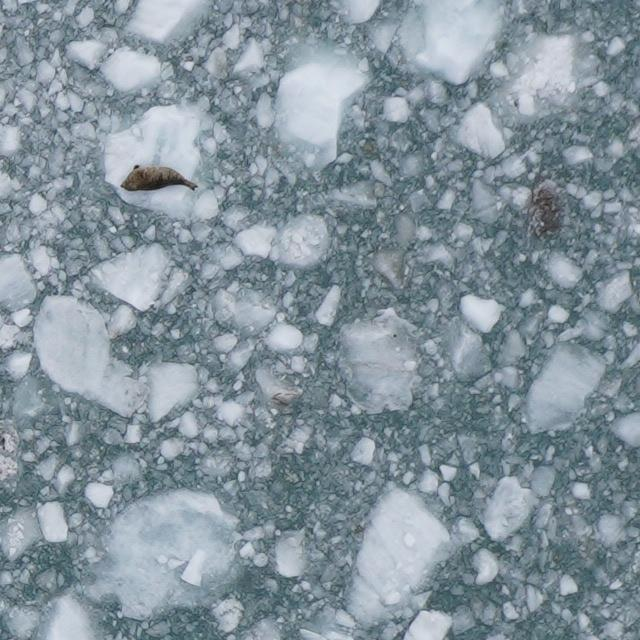seal: (114, 161, 202, 194)
